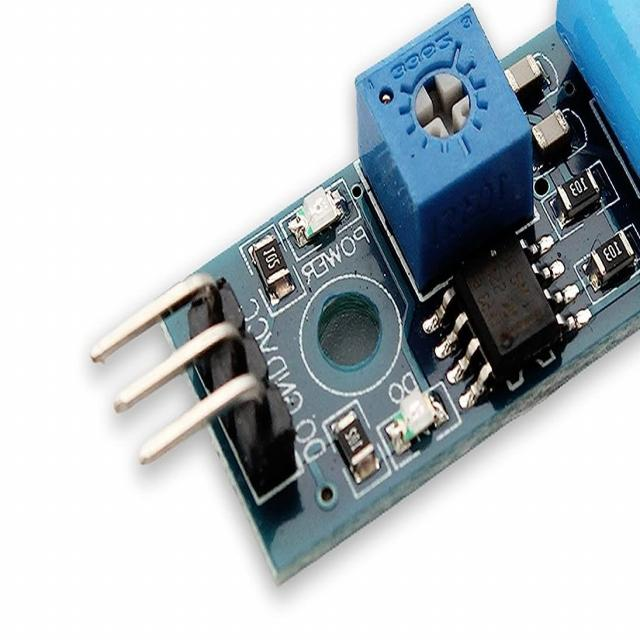IC: (451, 224, 563, 392)
LED: (397, 382, 436, 438), (298, 188, 340, 232)
capacitor 1V5: (530, 105, 570, 153), (507, 49, 542, 93)
connector -5v-: (82, 270, 293, 512)
potentiometer POT1: (349, 3, 523, 208)
resistor IR1: (332, 400, 377, 472), (252, 234, 297, 301), (593, 222, 635, 287), (562, 160, 596, 222)
